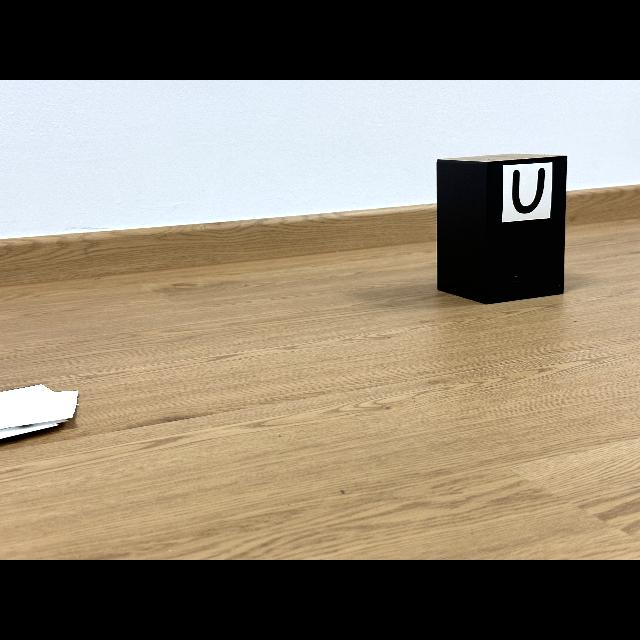U: (512, 168, 545, 214)
